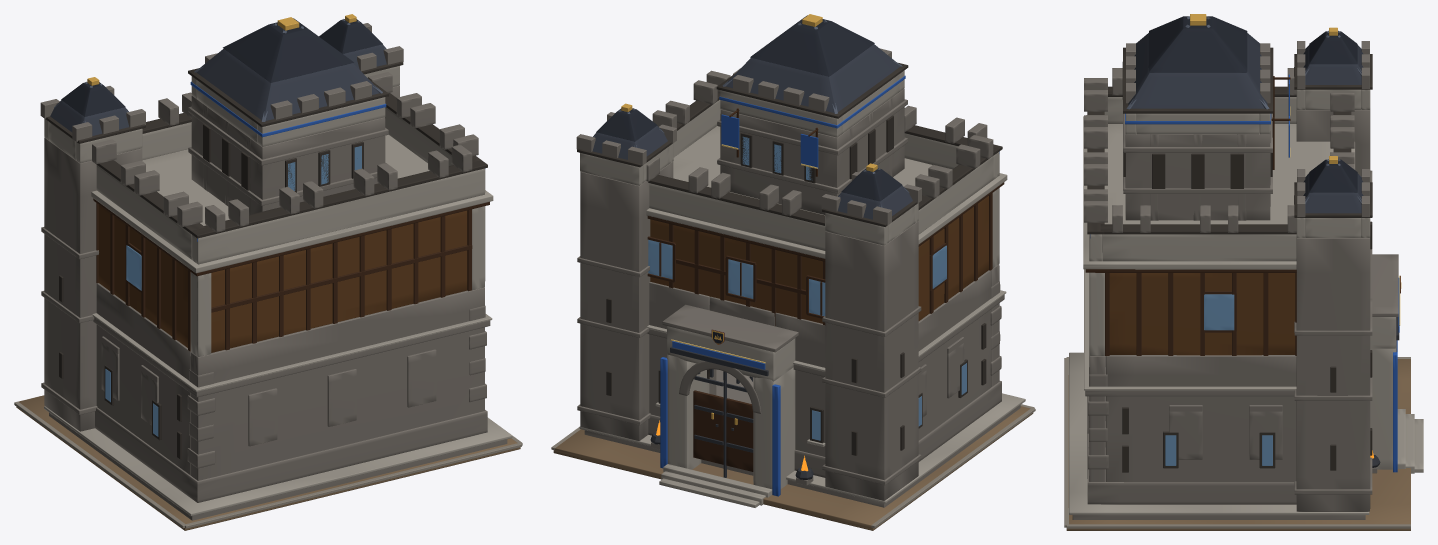
The model's file is 城镇大厅二本.glb.
3 renders of one model, left to right at view 1: azimuth 30°, elevation 25°; view 2: azimuth 150°, elevation 25°; view 3: azimuth 270°, elevation 25°, orthographic. The views are drawn at different scales.
Visible parts, largest first — view 1: BR-stone_mid, BR-stone_light, BR-wood_mid, BR-wood_dark, BR-stone_dark, BR-roof_edge, BR-roof, BR-earth, BR-paving, BR-glass, BR-team; view 2: BR-stone_mid, BR-stone_light, BR-wood_mid, BR-wood_dark, BR-stone_dark, BR-earth, BR-roof, BR-roof_edge, BR-team, BR-glass, BR-iron, BR-paving; view 3: BR-stone_mid, BR-stone_light, BR-wood_mid, BR-roof, BR-stone_dark, BR-roof_edge, BR-earth, BR-wood_dark, BR-paving, BR-glass, BR-team.
Boxes of the visible parts, box(x1,y1,x2,y2) form: BR-stone_mid: box(40, 23, 507, 520); BR-stone_light: box(44, 66, 512, 516); BR-wood_mid: box(98, 205, 467, 352); BR-wood_dark: box(93, 198, 489, 351); BR-stone_dark: box(45, 61, 487, 459); BR-roof_edge: box(61, 18, 382, 116); BR-roof: box(50, 44, 386, 135); BR-earth: box(16, 395, 520, 530); BR-paving: box(14, 401, 522, 528); BR-glass: box(105, 146, 361, 436); BR-team: box(190, 81, 485, 241); BR-stone_mid: box(576, 48, 1020, 507); BR-stone_light: box(579, 70, 1025, 507); BR-wood_mid: box(650, 196, 988, 323); BR-wood_dark: box(647, 108, 1004, 471); BR-stone_dark: box(577, 63, 1002, 455); BR-earth: box(553, 406, 1033, 530); BR-roof: box(592, 44, 912, 219); BR-roof_edge: box(596, 15, 902, 343); BR-team: box(660, 75, 999, 496); BR-glass: box(648, 136, 966, 440); BR-iron: box(650, 347, 813, 479); BR-paving: box(551, 404, 1035, 528); BR-stone_mid: box(1072, 41, 1398, 519); BR-stone_light: box(1069, 89, 1423, 514); BR-wood_mid: box(1109, 273, 1295, 355); BR-roof: box(1128, 33, 1363, 213); BR-stone_dark: box(1087, 47, 1372, 472); BR-roof_edge: box(1148, 16, 1357, 192); BR-earth: box(1066, 359, 1410, 530); BR-wood_dark: box(1085, 76, 1296, 355); BR-paving: box(1064, 357, 1410, 528); BR-glass: box(1165, 294, 1272, 465); BR-team: box(1090, 74, 1399, 472).
Size of the model in its own units: 13.26 by 15.71 by 11.9.
